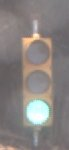Green: (18, 23, 54, 132)
